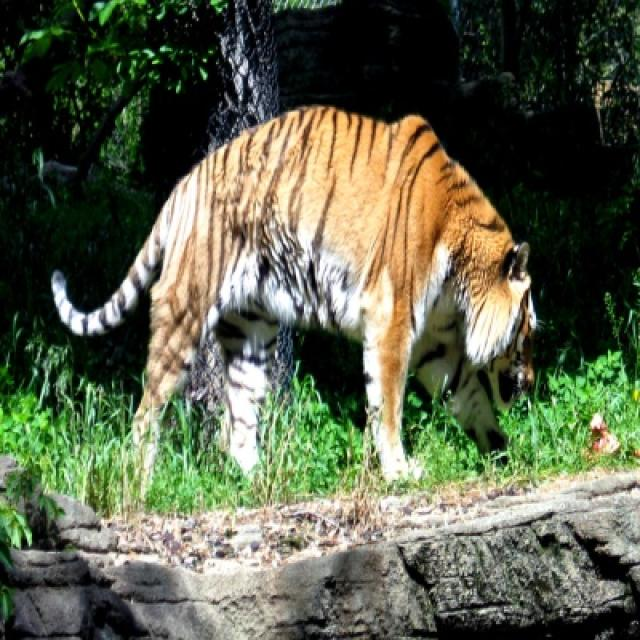Tiger: (51, 107, 536, 477)
